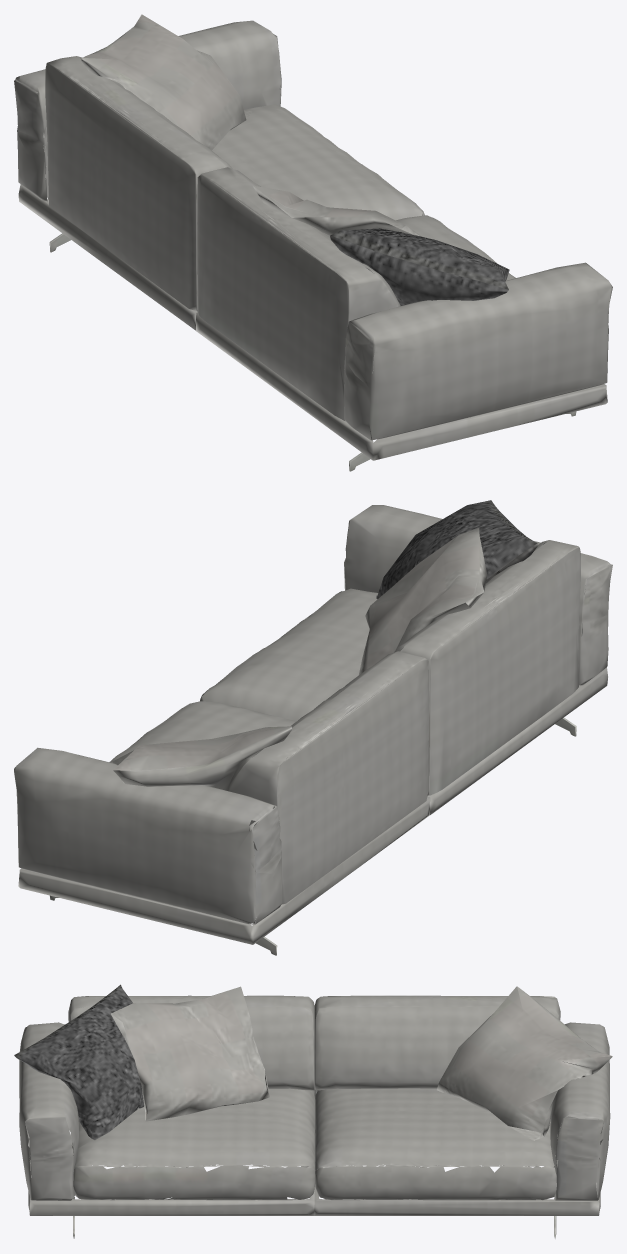
The model's file is M_Sofa0017.obj.
The picture shows the model from 3 angles, top to bottom: view 1: azimuth 30°, elevation 25°; view 2: azimuth 150°, elevation 25°; view 3: azimuth 270°, elevation 25°; orthographic projection. The views are drawn at different scales.
Size of the model in its own units: 0.864 by 0.711 by 2.25.
Materials: 1 (1 with a texture image).
